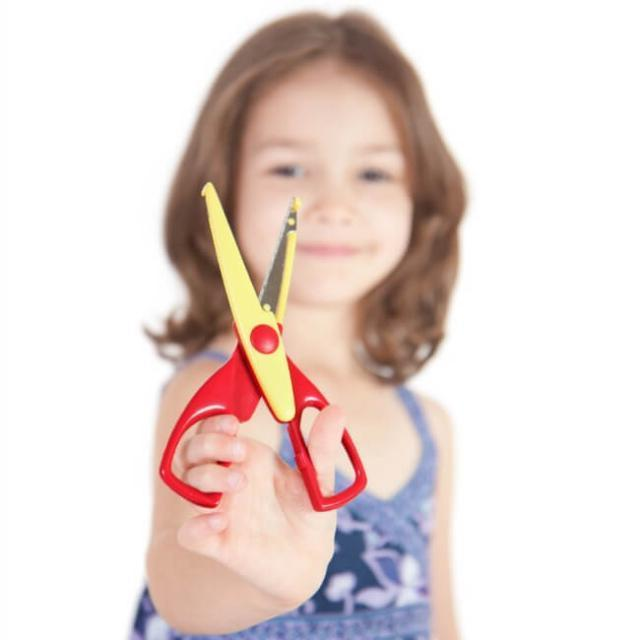scissors: (153, 180, 370, 514)
